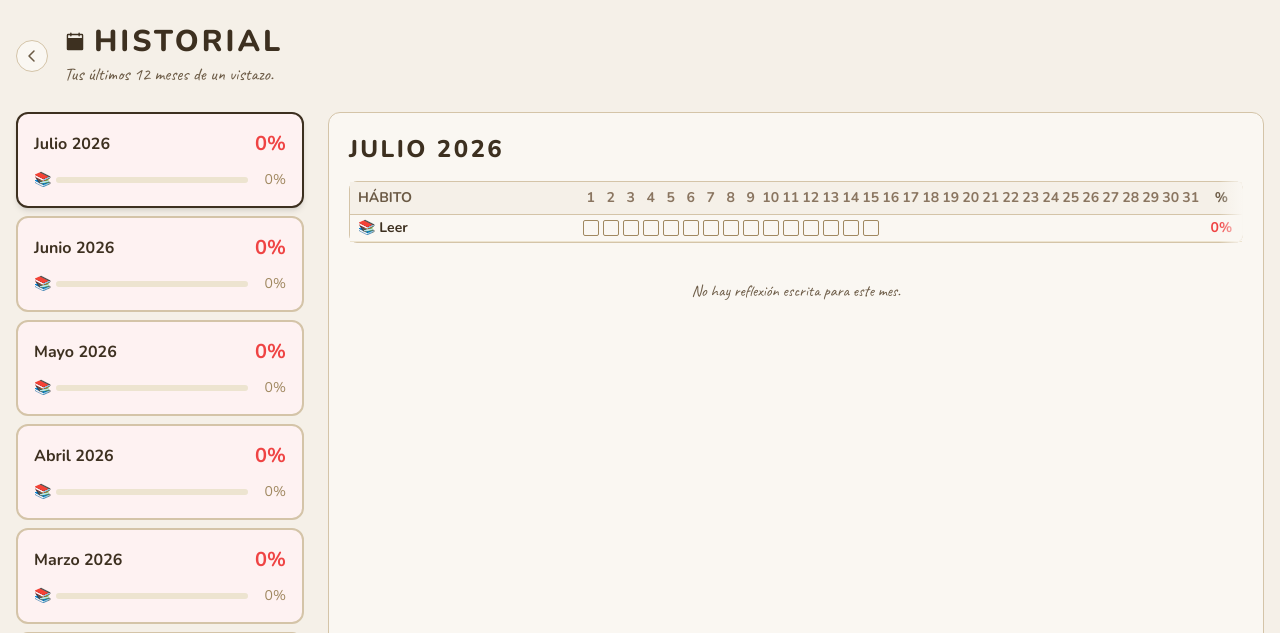
it: History › switches the detail panel when a different month card is clicked
Expected: the heading "JULIO 2026" is shown, [349,133,504,165]
Click the button "Junio 2026 0% 📚 0%".
click(53, 248)  # box [16,216,304,312]
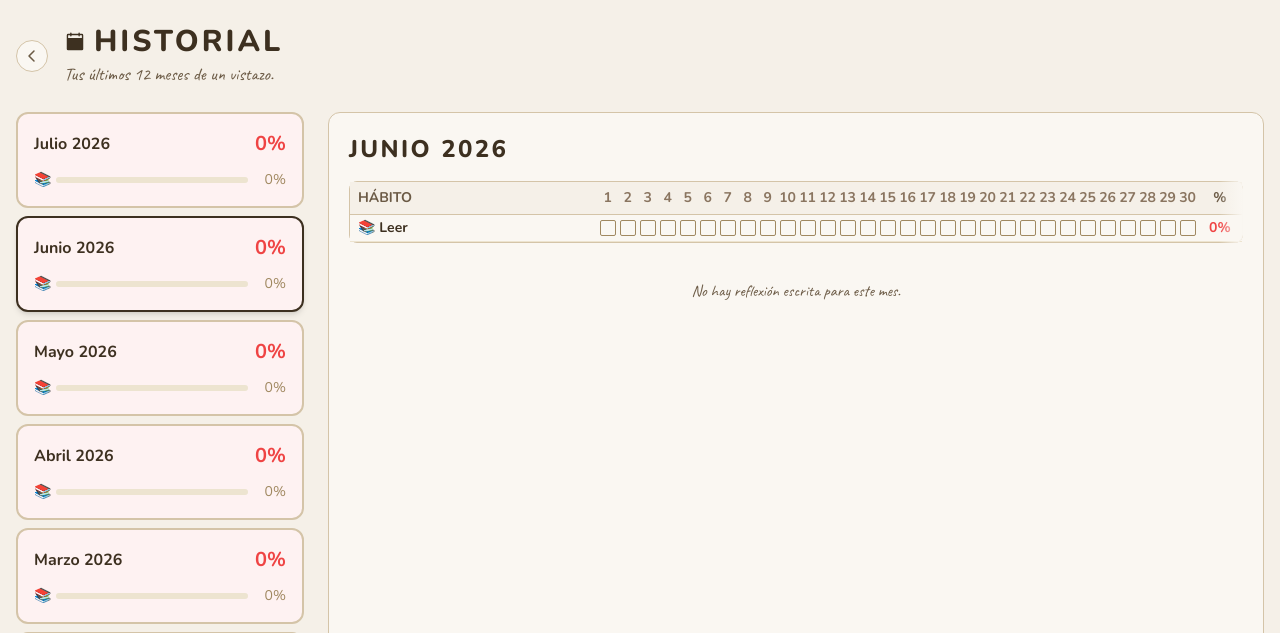
Expected: the heading "JUNIO 2026" is shown, [349,133,508,165]
